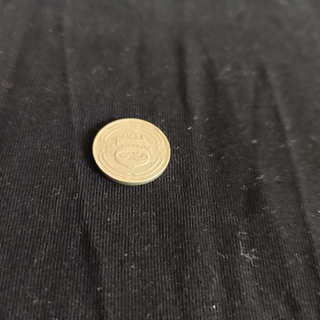10KURUS: (92, 116, 172, 187)
